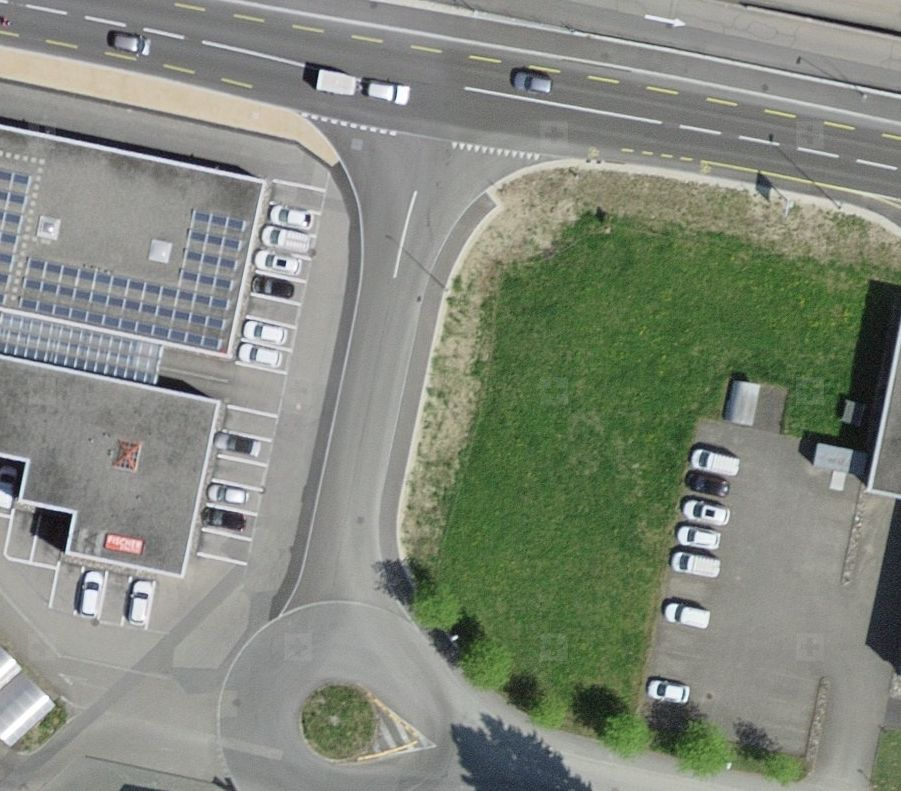solar: (1, 169, 247, 356)
